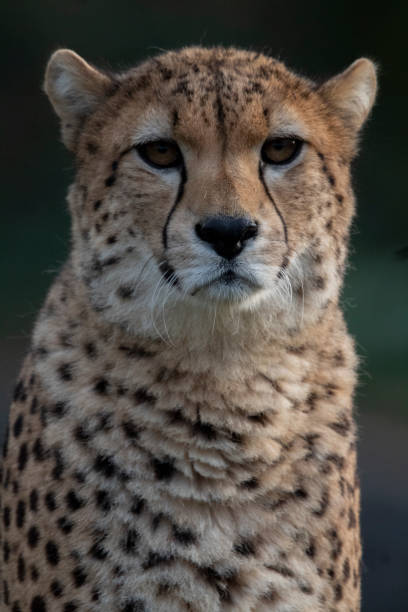cheetah: (18, 25, 377, 369)
